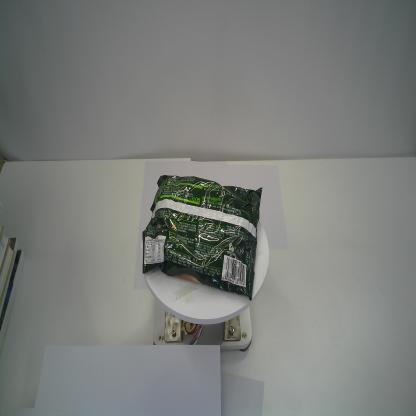Instant Noodles: (140, 172, 264, 303)
